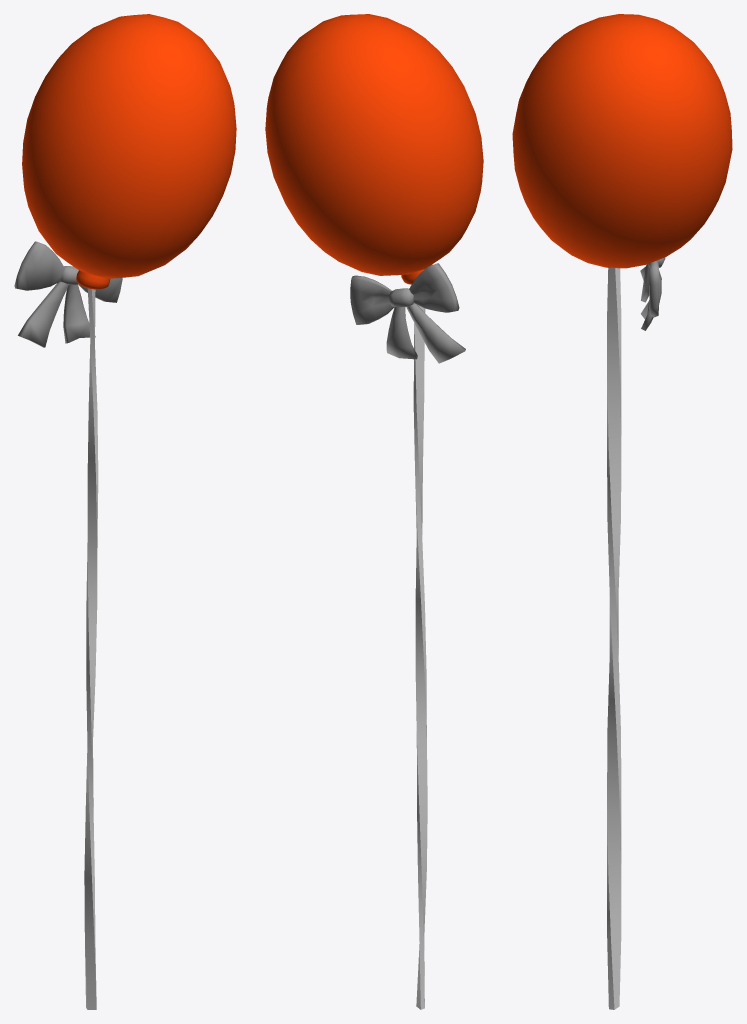
The model's file is baloon.FBX.
3 views of the same model, side by side, from view 1: azimuth 30°, elevation 25°; view 2: azimuth 150°, elevation 25°; view 3: azimuth 270°, elevation 25° (orthographic). The views are drawn at different scales.
Visible parts, largest first — view 1: baloon_head, baloon_tale; view 2: baloon_head, baloon_tale; view 3: baloon_head, baloon_tale.
Boxes of the visible parts, x1=… form: baloon_head: x1=14, y1=14, x2=236, y2=347; baloon_tale: x1=84, y1=288, x2=98, y2=1009; baloon_head: x1=265, y1=14, x2=483, y2=363; baloon_tale: x1=413, y1=305, x2=427, y2=1009; baloon_head: x1=512, y1=14, x2=732, y2=330; baloon_tale: x1=607, y1=268, x2=621, y2=1009.
Bounding box in the file's own units: 0.00779 × 0.037 × 0.00728.
